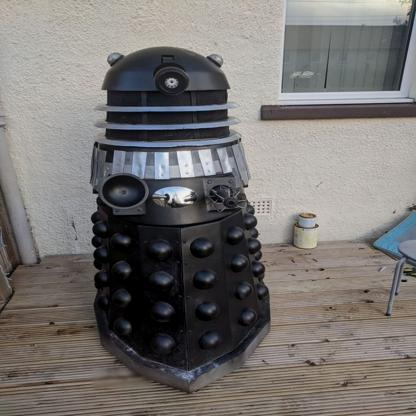dalek: (72, 28, 298, 412)
